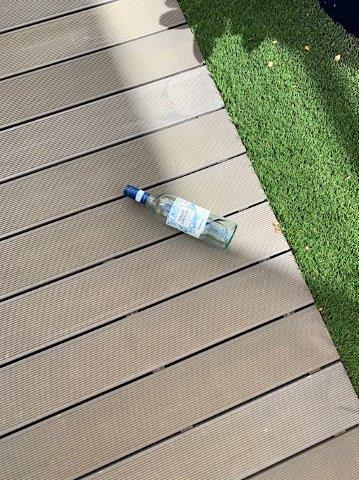botolkaca: (123, 184, 237, 249)
